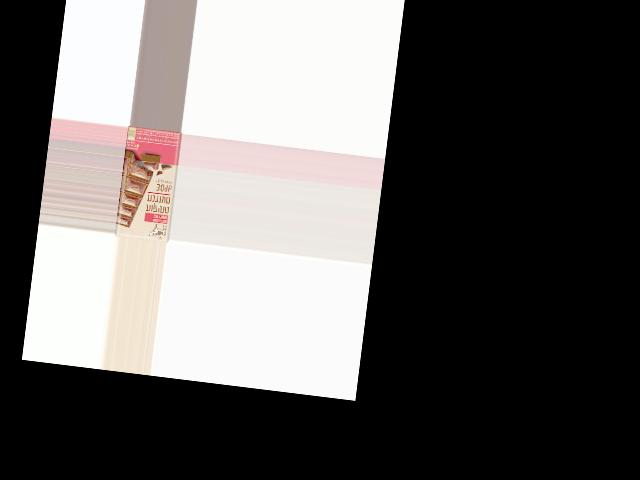chocolate: (115, 126, 182, 243)
